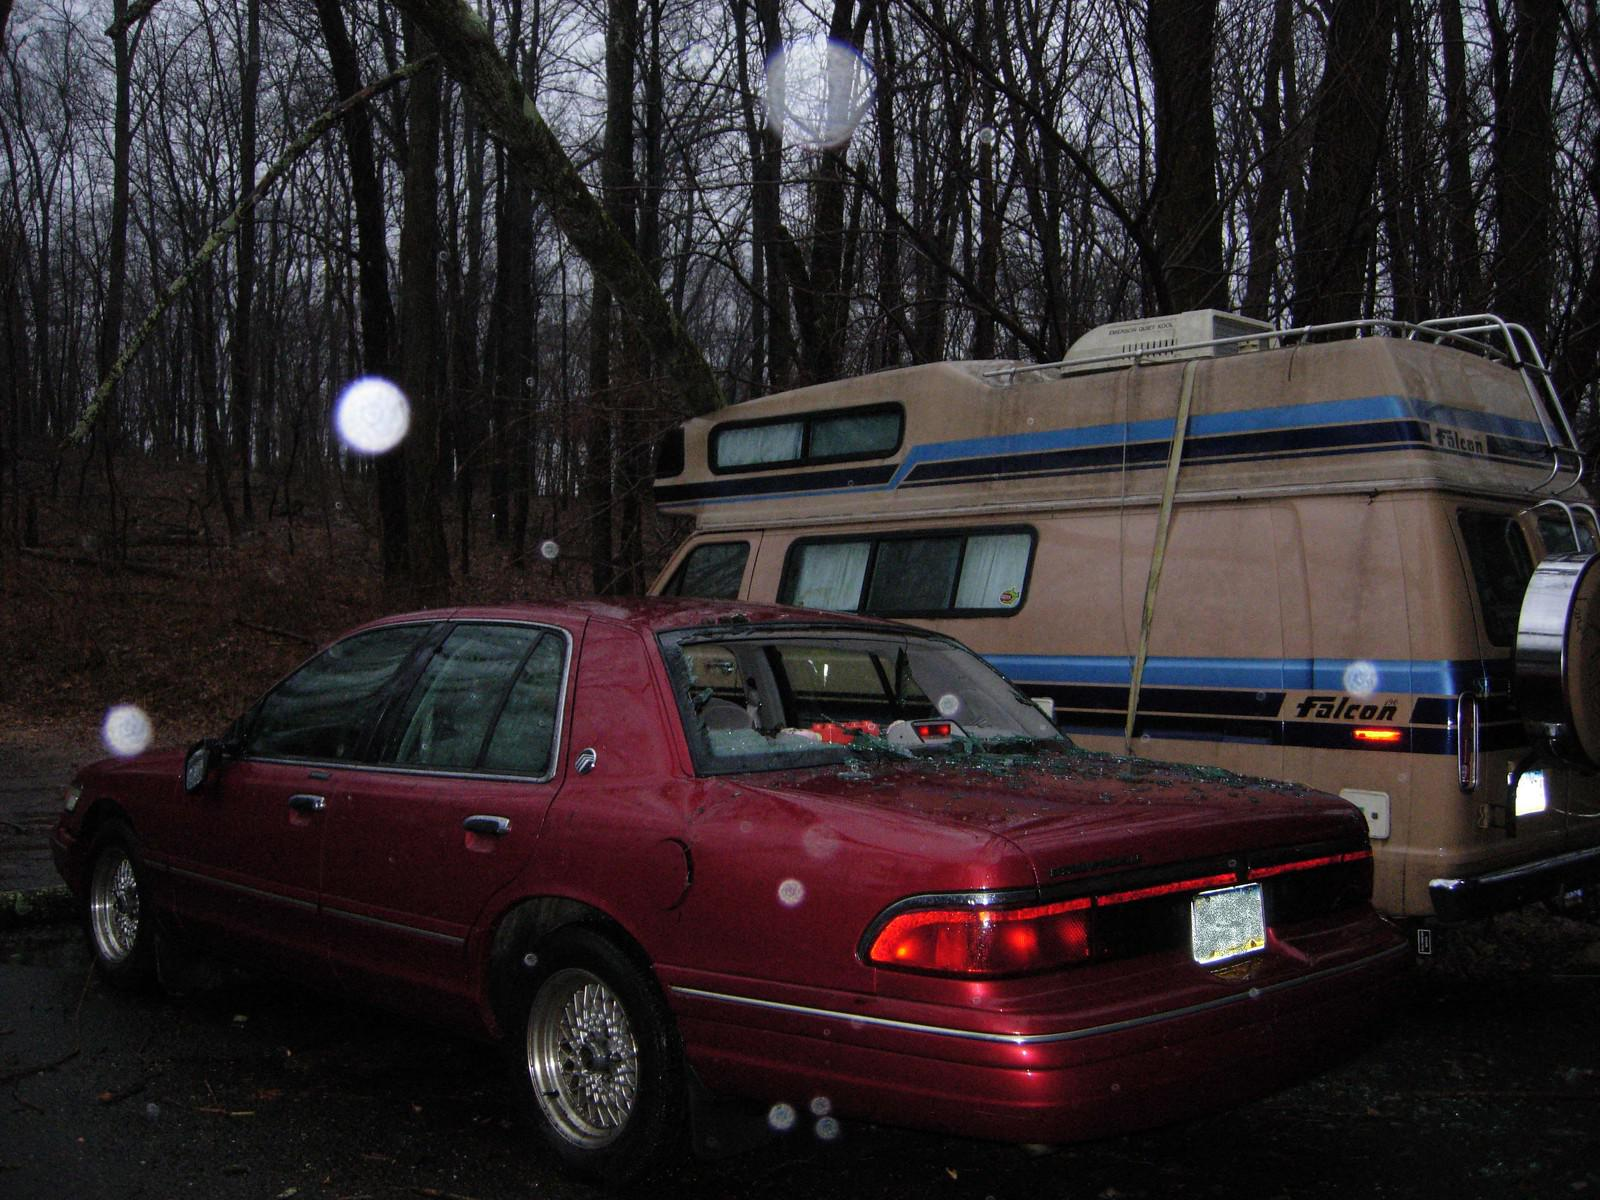Rear-windscreen-Damage: (641, 608, 1043, 760)
